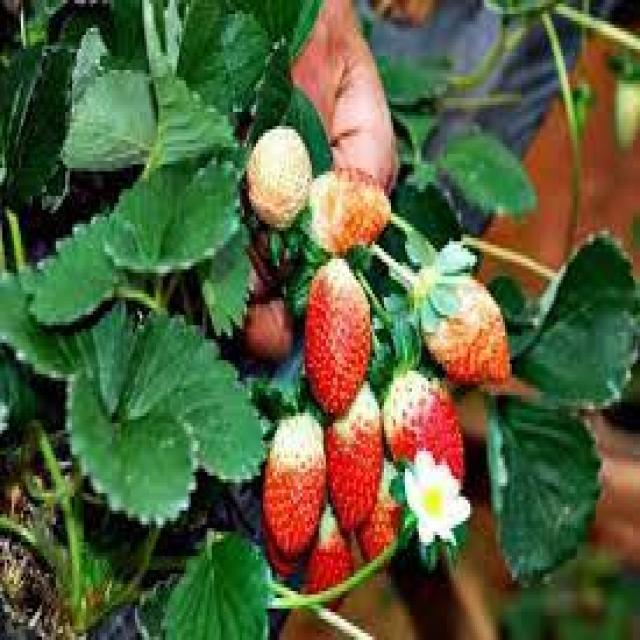Fruta sana: (410, 250, 512, 387), (382, 363, 472, 512), (263, 409, 332, 563), (300, 264, 368, 411), (326, 398, 386, 536), (251, 120, 305, 224)
